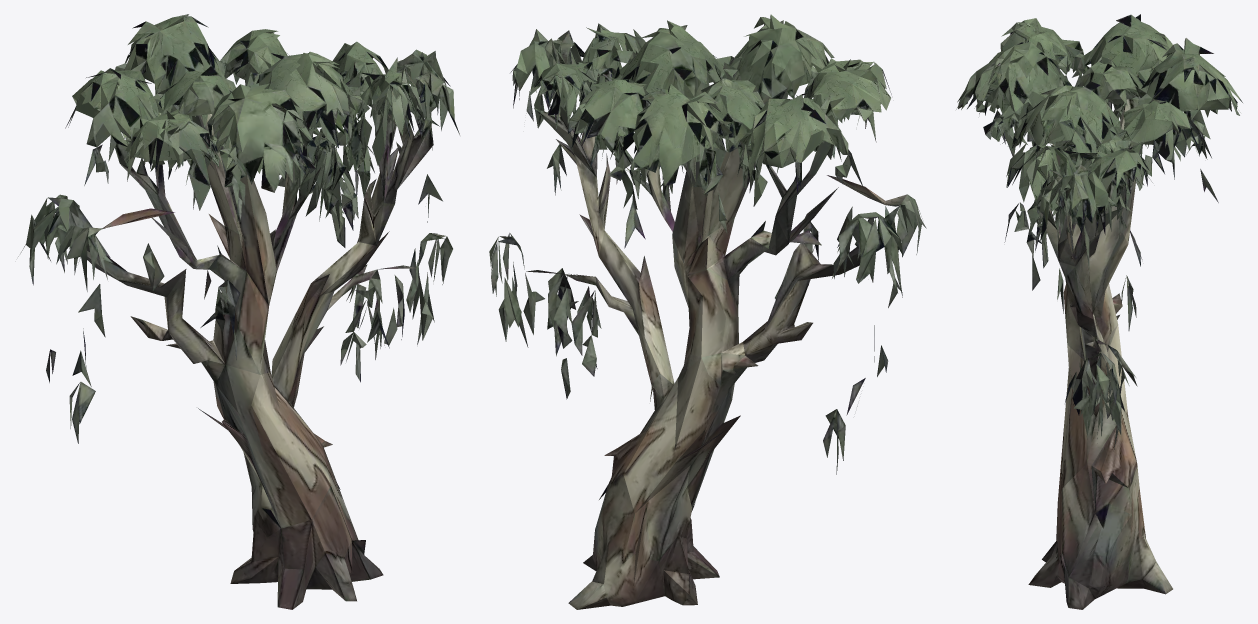
File: gum_tree.glb
3 renders of one model, left to right at view 1: azimuth 30°, elevation 25°; view 2: azimuth 150°, elevation 25°; view 3: azimuth 270°, elevation 25°, orthographic. The views are drawn at different scales.
Bounding box in the file's own units: 1.52 × 1.9 × 0.9991.
1 material, 1 textured.
